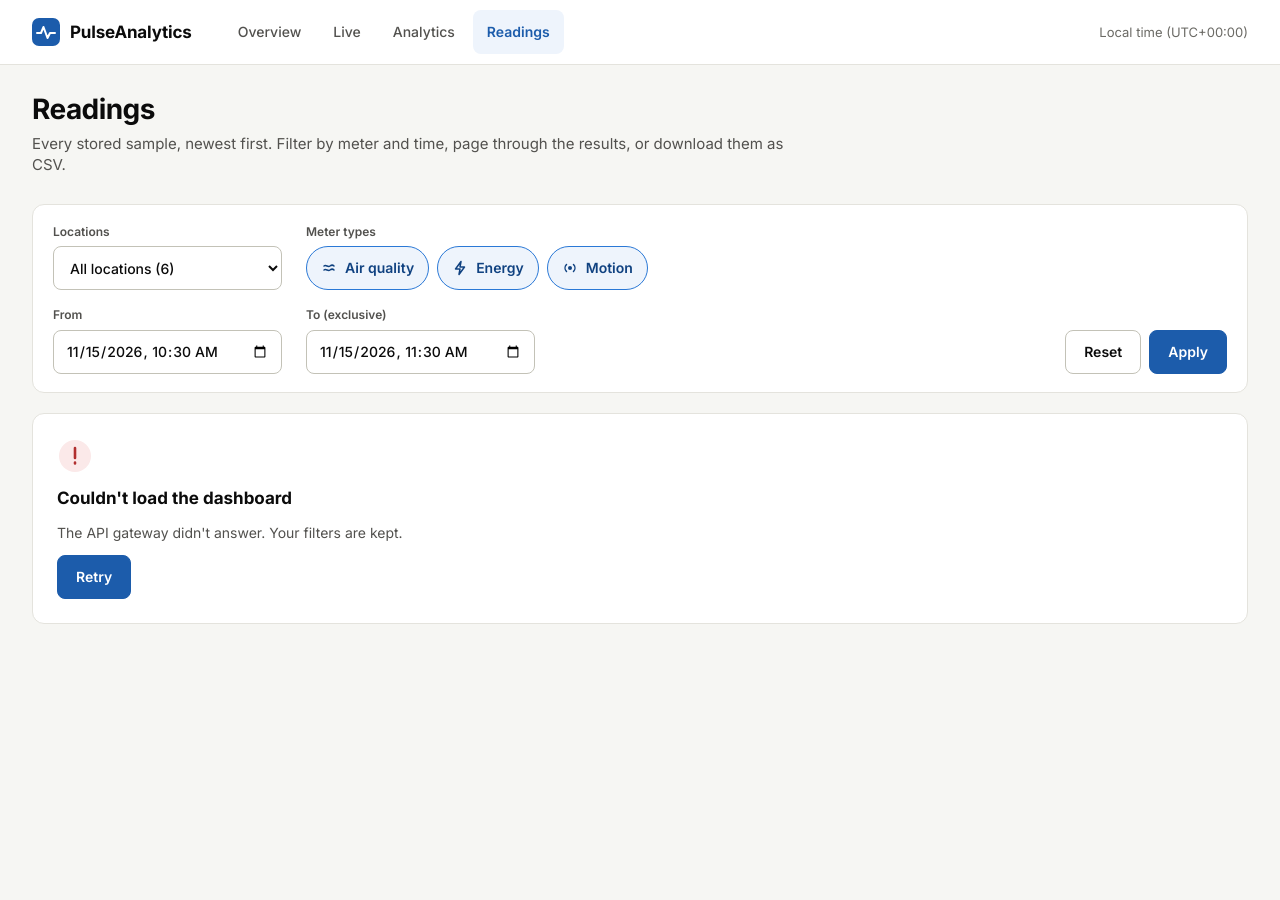
Test: ReadingsPage filters › refills the form with the previous filters on the back button
The image size is (1280, 900).
Later steps or results of the test are not shown.
Click the button "Motion". click: (597, 268)
box: [547,246,648,290]
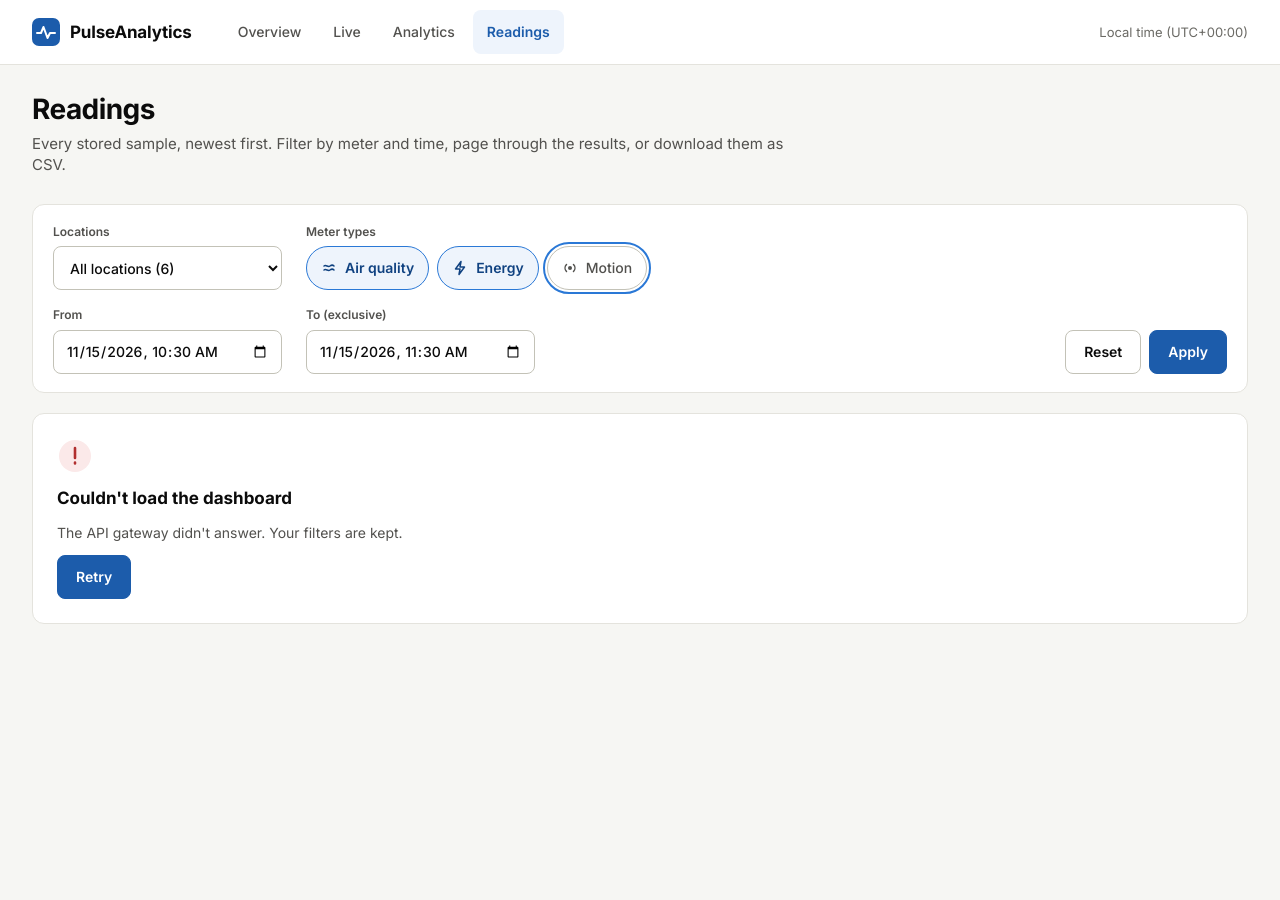
Click the button "Apply". click: (1188, 352)
box: [1149,330,1227,374]
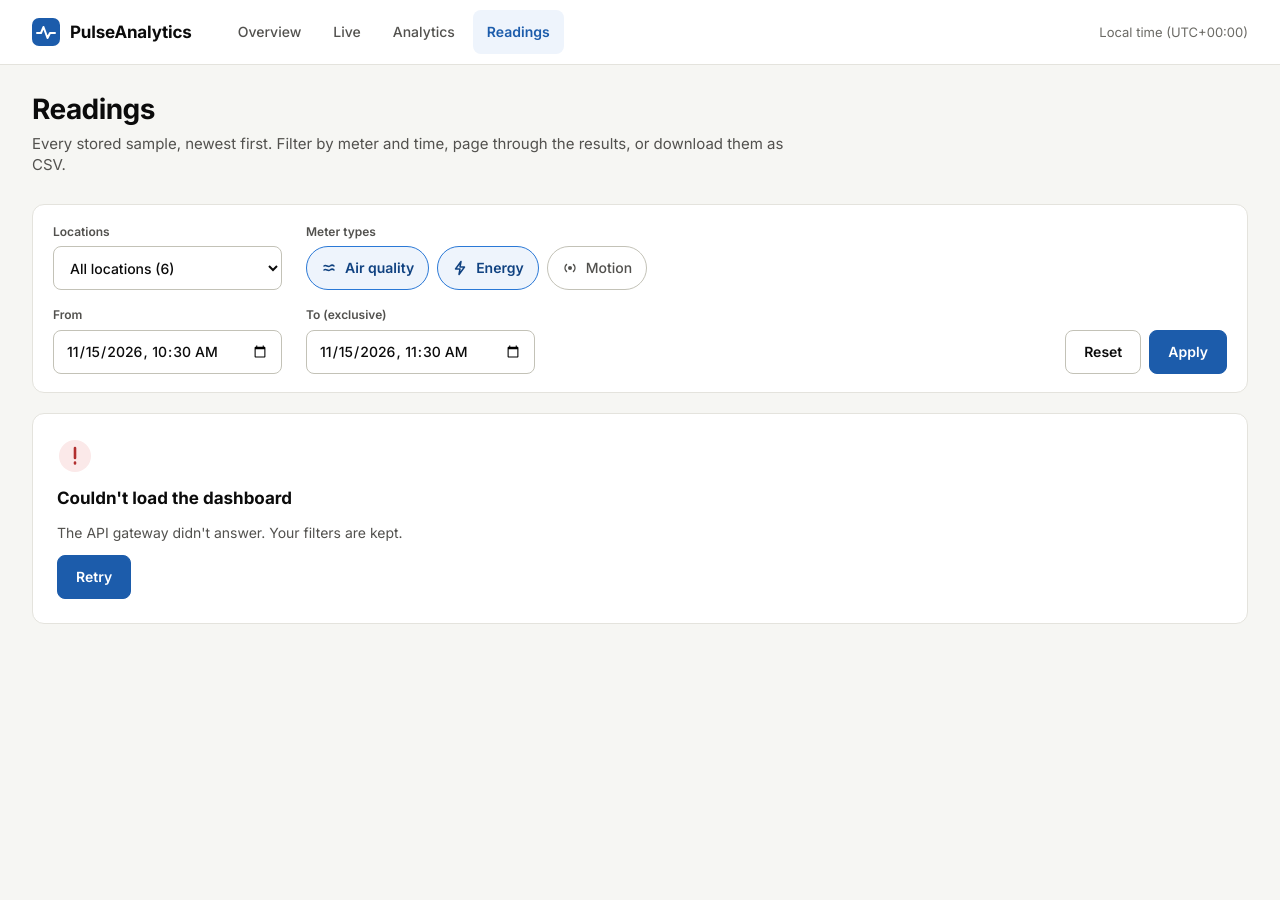
Check: the button "Motion" is not pressed, box [547,246,647,290]
